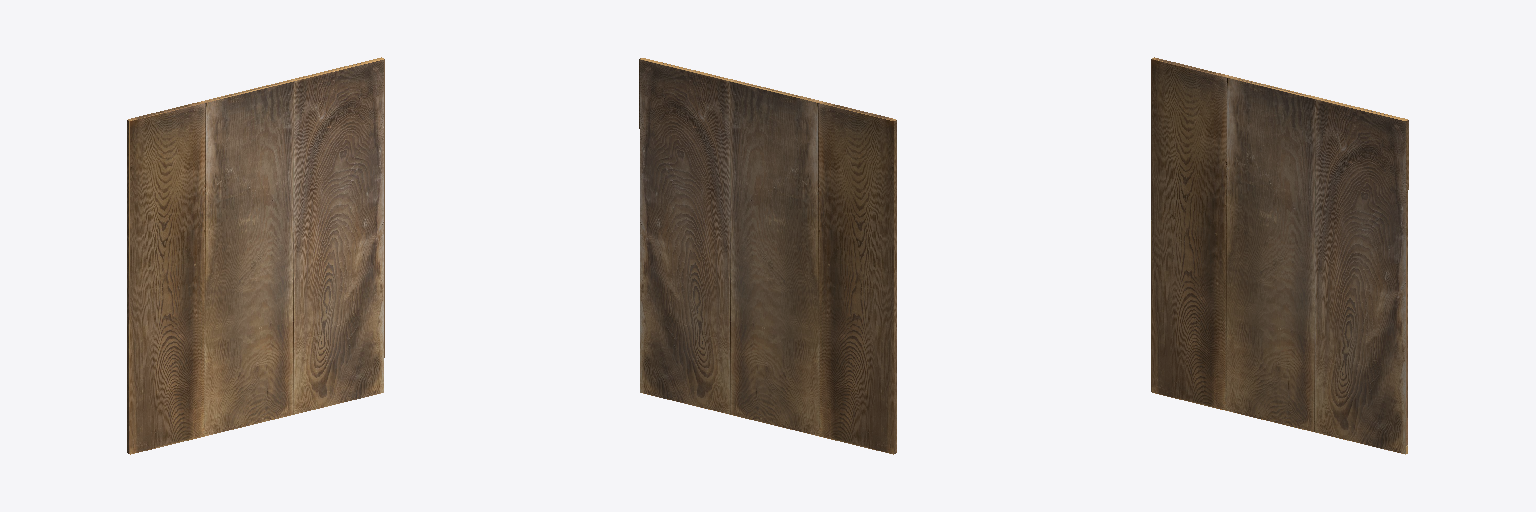
3 renders of one model, left to right at view 1: azimuth 30°, elevation 25°; view 2: azimuth 150°, elevation 25°; view 3: azimuth 330°, elevation 25°, orthographic.
Visible parts, largest first — view 1: Object_0.001; view 2: Object_0.001; view 3: Object_0.001.
Boxes of the visible parts, box(x1,y1,x2,y2) form: Object_0.001: box(127, 57, 384, 454); Object_0.001: box(639, 58, 896, 454); Object_0.001: box(1151, 57, 1408, 454).
Bounding box in the file's own units: 1.2 × 1.5 × 0.021.
Materials: 1 (1 with a texture image).